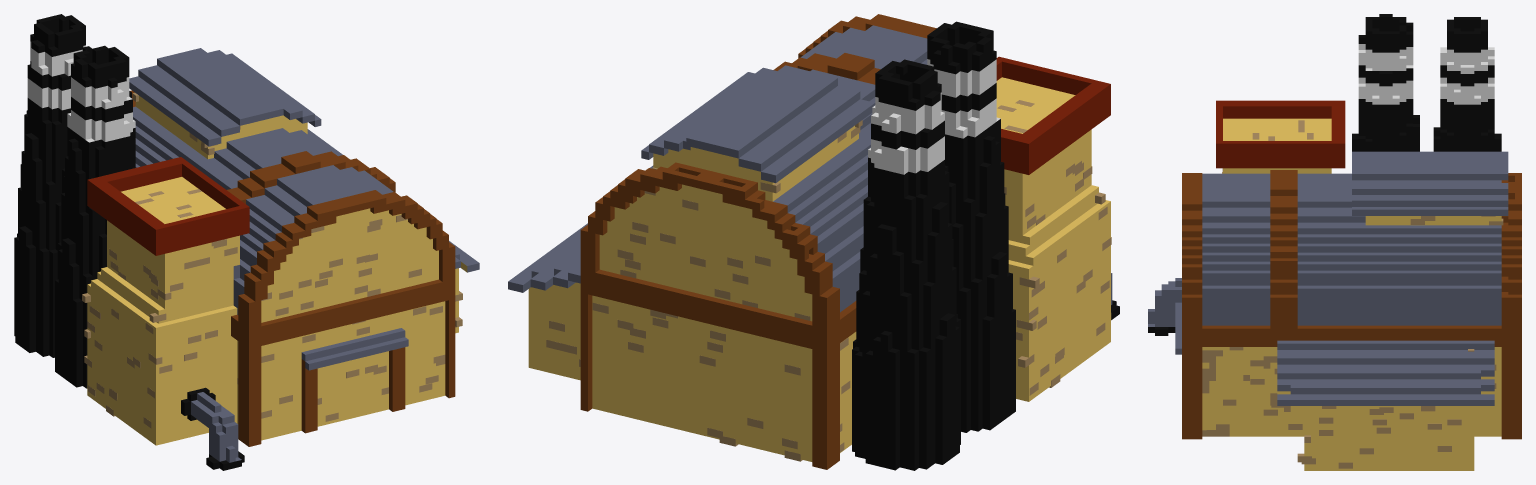
File: Фабрика1.fbx
3 views of the same model, side by side, from view 1: azimuth 30°, elevation 25°; view 2: azimuth 150°, elevation 25°; view 3: azimuth 270°, elevation 25° (orthographic). The views are drawn at different scales.
Visible parts, largest first — view 1: Завод; view 2: Завод; view 3: Завод.
Boxes of the visible parts, x1=… form: Завод: x1=14, y1=14, x2=479, y2=470; Завод: x1=508, y1=14, x2=1119, y2=470; Завод: x1=1148, y1=14, x2=1521, y2=470.
Bounding box in the file's own units: 976 × 833 × 928.
